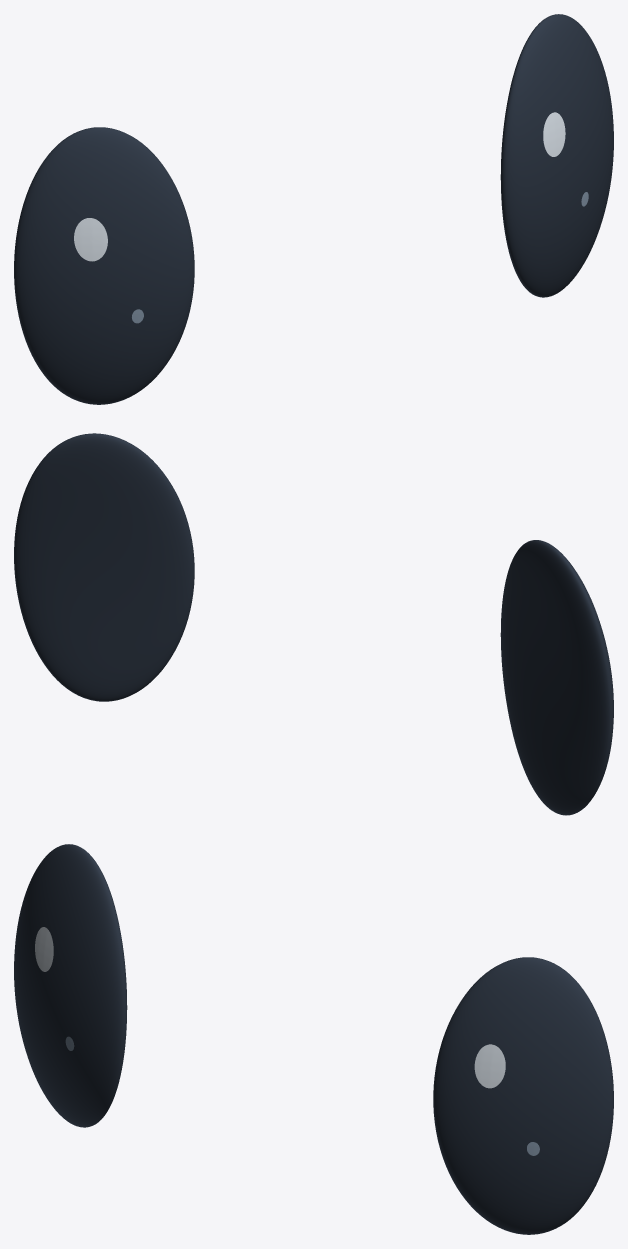
File: Feminine-Feminine-eyes-original-b08a82ec.glb
3 views of the same model, one above another, from view 1: azimuth 30°, elevation 25°; view 2: azimuth 150°, elevation 25°; view 3: azimuth 330°, elevation 25° (orthographic).
Parts seen in each view (by area): view 1: Eye / dark oval -1, Eye / dark oval 1, Eye highlight / main -1, Eye highlight / main 1; view 2: Eye / dark oval 1, Eye / dark oval -1; view 3: Eye / dark oval 1, Eye / dark oval -1, Eye highlight / main 1, Eye highlight / main -1.
Part boxes in pixels (bbox=[...]): Eye / dark oval -1: bbox=[14, 127, 194, 404]; Eye / dark oval 1: bbox=[500, 14, 613, 297]; Eye highlight / main -1: bbox=[74, 218, 107, 261]; Eye highlight / main 1: bbox=[543, 112, 565, 156]; Eye / dark oval 1: bbox=[14, 433, 194, 701]; Eye / dark oval -1: bbox=[500, 540, 613, 815]; Eye / dark oval 1: bbox=[433, 957, 613, 1234]; Eye / dark oval -1: bbox=[14, 844, 127, 1127]; Eye highlight / main 1: bbox=[474, 1044, 505, 1088]; Eye highlight / main -1: bbox=[35, 927, 53, 971].
Size of the model in its own units: 0.3636 by 0.1582 by 0.0432.
